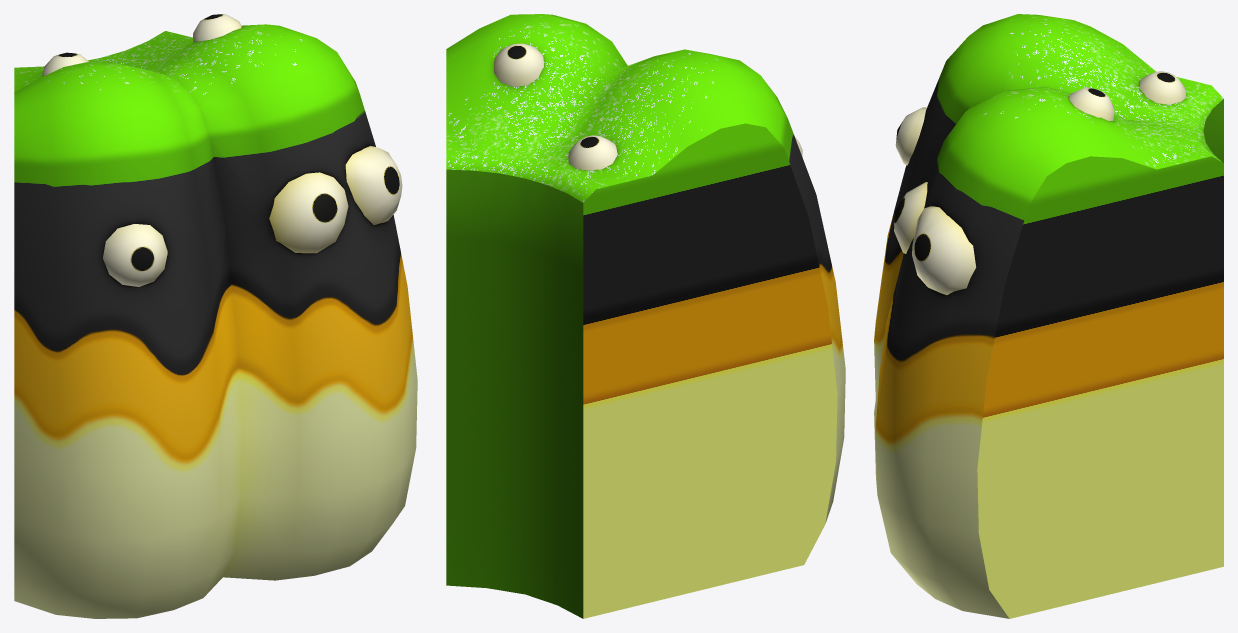
The model's file is cake_77.FBX.
3 renders of one model, left to right at view 1: azimuth 30°, elevation 25°; view 2: azimuth 150°, elevation 25°; view 3: azimuth 270°, elevation 25°, orthographic. The views are drawn at different scales.
Visible parts, largest first — view 1: cake_77; view 2: cake_77; view 3: cake_77.
Part boxes in pixels (box(x1,y1,x2,y2)): cake_77: box(14, 14, 417, 618); cake_77: box(446, 14, 845, 618); cake_77: box(874, 14, 1223, 618).
Size of the model in its own units: 4.99 by 5.96 by 3.98.
